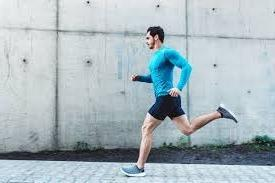Human: (120, 17, 236, 174)
